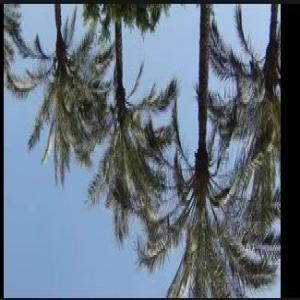palm tree: (3, 2, 280, 296)
